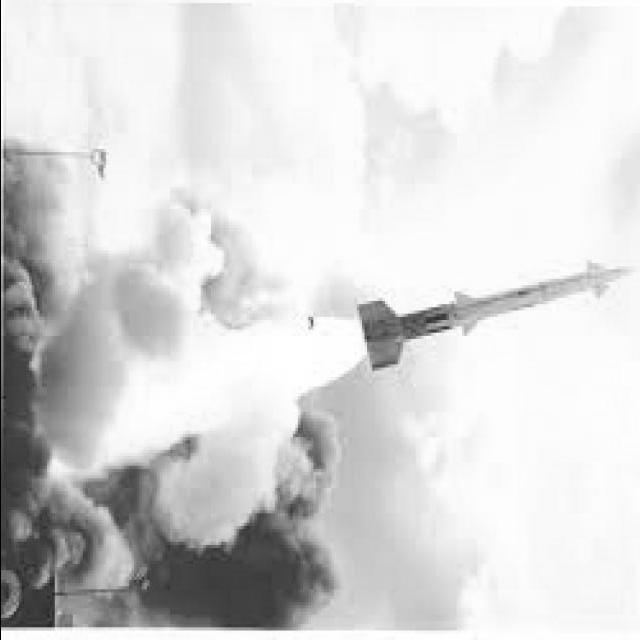missile: (348, 260, 640, 377)
